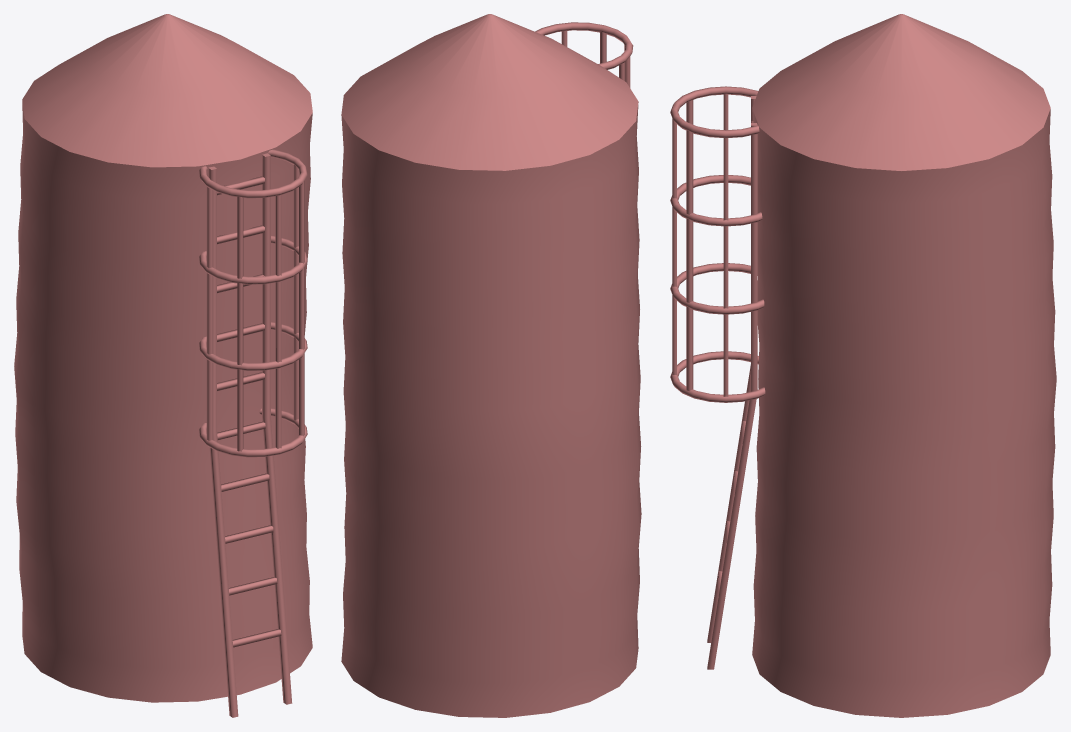
Rendered from Silo de grano.fbx.
The picture shows the model from 3 angles, left to right: view 1: azimuth 30°, elevation 25°; view 2: azimuth 150°, elevation 25°; view 3: azimuth 270°, elevation 25°; orthographic projection. The views are drawn at different scales.
Visible parts, largest first — view 1: pCylinder1, pTorus1, pCube19; view 2: pCylinder1, pTorus1; view 3: pCylinder1, pTorus1, pCube19.
Boxes of the visible parts, x1,y1,x2,y2 form: pCylinder1: (14,14,312,702); pTorus1: (199,149,307,457); pCube19: (208,153,292,717); pCylinder1: (341,14,641,717); pTorus1: (535,22,633,87); pCylinder1: (752,14,1056,717); pTorus1: (670,86,765,402); pCube19: (707,96,757,669).
Size of the model in its own units: 222 by 515 by 281.
